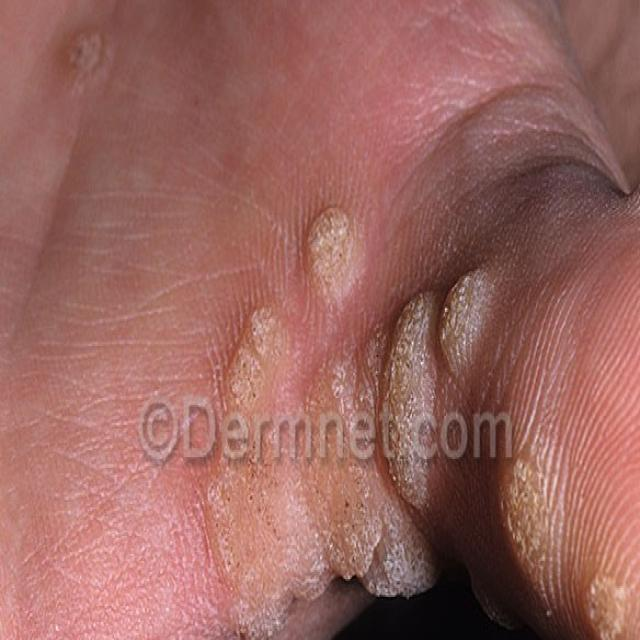Warts: (373, 246, 509, 524), (214, 322, 311, 640), (494, 455, 574, 631), (345, 491, 430, 623), (300, 160, 370, 313), (59, 8, 130, 127), (587, 555, 631, 640)
